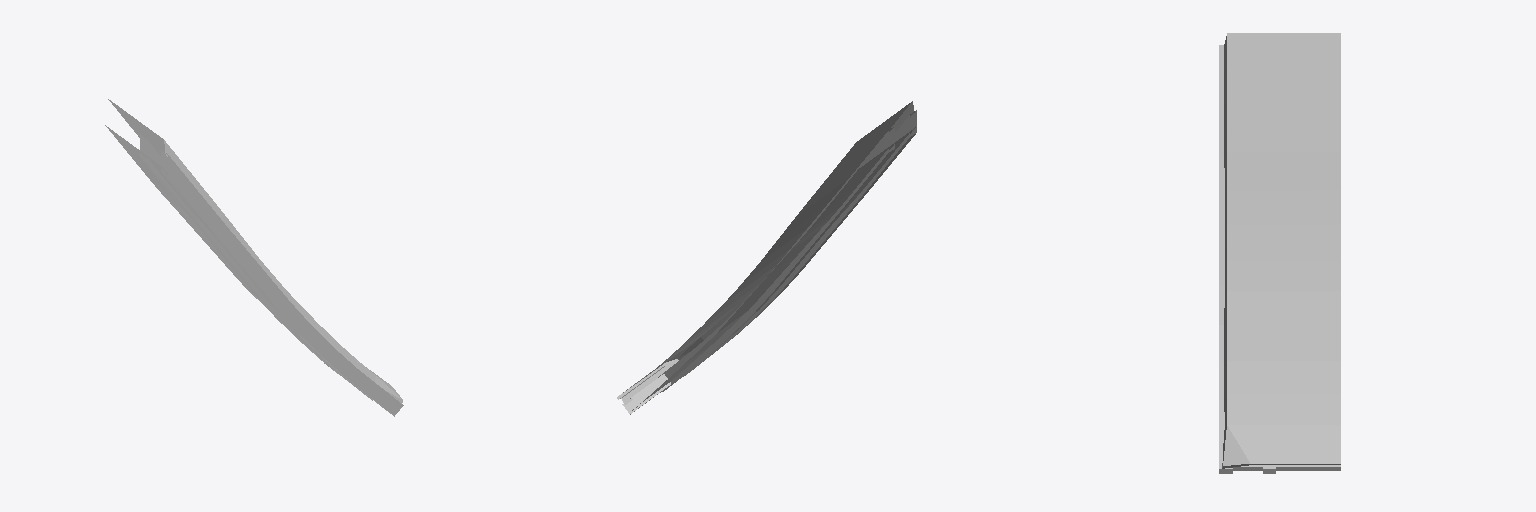
File: Roof_Modular_FlatTiles_8_L_Half.obj
3 views of the same model, side by side, from view 1: azimuth 30°, elevation 25°; view 2: azimuth 150°, elevation 25°; view 3: azimuth 270°, elevation 25° (orthographic).
Parts seen in each view (by area): view 1: Roof_Modular_FlatTiles_8_L_Half; view 2: Roof_Modular_FlatTiles_8_L_Half; view 3: Roof_Modular_FlatTiles_8_L_Half.
Part boxes in pixels (bbox=[...]): Roof_Modular_FlatTiles_8_L_Half: bbox=[105, 99, 403, 416]; Roof_Modular_FlatTiles_8_L_Half: bbox=[617, 101, 916, 414]; Roof_Modular_FlatTiles_8_L_Half: bbox=[1219, 33, 1340, 473].
Size of the model in its own units: 5.03 by 6.54 by 2.18.